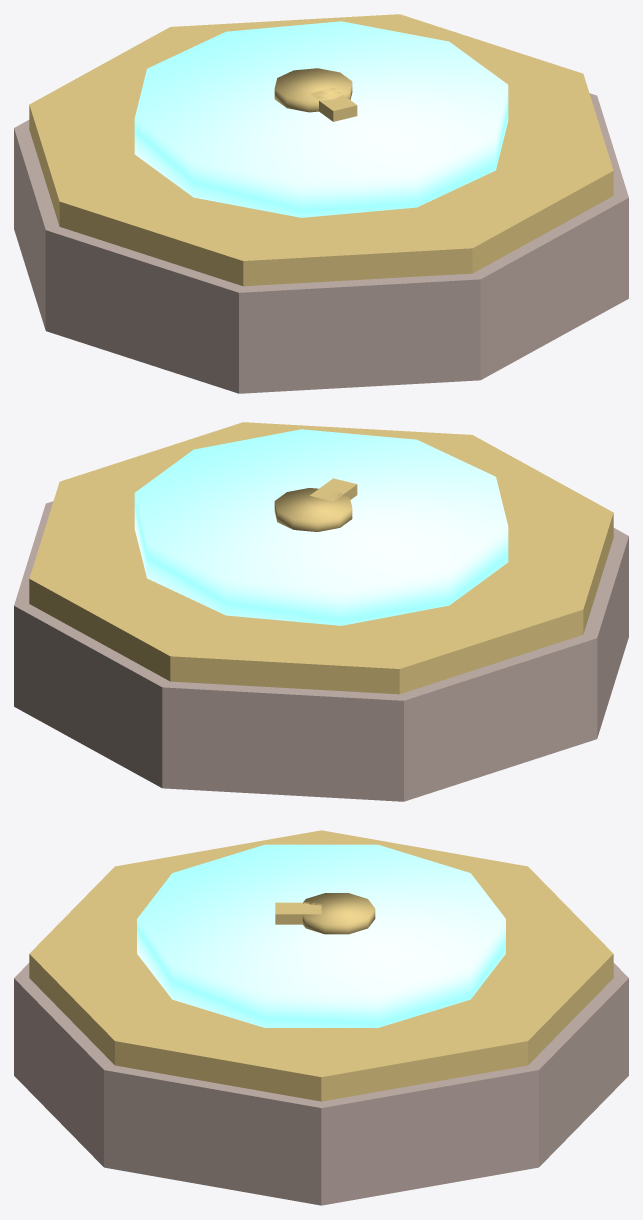
File: Gimmick_DoorSwitchPad.fbx
3 renders of one model, top to bottom at view 1: azimuth 30°, elevation 25°; view 2: azimuth 150°, elevation 25°; view 3: azimuth 270°, elevation 25°, orthographic. The views are drawn at different scales.
Parts seen in each view (by area): view 1: Gimmick_DoorSwitchPad_Base, Gimmick_DoorSwitchPad_Frame, Gimmick_DoorSwitchPad_Button, Gimmick_DoorSwitchPad_KeyholeTop, Gimmick_DoorSwitchPad_KeyholeBottom; view 2: Gimmick_DoorSwitchPad_Base, Gimmick_DoorSwitchPad_Frame, Gimmick_DoorSwitchPad_Button, Gimmick_DoorSwitchPad_KeyholeTop, Gimmick_DoorSwitchPad_KeyholeBottom; view 3: Gimmick_DoorSwitchPad_Base, Gimmick_DoorSwitchPad_Frame, Gimmick_DoorSwitchPad_Button, Gimmick_DoorSwitchPad_KeyholeTop, Gimmick_DoorSwitchPad_KeyholeBottom.
Boxes of the visible parts, <box> form: Gimmick_DoorSwitchPad_Base: <box>14,93,628,393</box>; Gimmick_DoorSwitchPad_Frame: <box>29,14,613,286</box>; Gimmick_DoorSwitchPad_Button: <box>134,21,508,217</box>; Gimmick_DoorSwitchPad_KeyholeTop: <box>274,68,352,112</box>; Gimmick_DoorSwitchPad_KeyholeBottom: <box>310,88,357,121</box>; Gimmick_DoorSwitchPad_Base: <box>14,501,628,801</box>; Gimmick_DoorSwitchPad_Frame: <box>29,422,613,694</box>; Gimmick_DoorSwitchPad_Button: <box>134,429,508,625</box>; Gimmick_DoorSwitchPad_KeyholeTop: <box>274,488,352,531</box>; Gimmick_DoorSwitchPad_KeyholeBottom: <box>310,478,357,501</box>; Gimmick_DoorSwitchPad_Base: <box>14,963,628,1205</box>; Gimmick_DoorSwitchPad_Frame: <box>29,830,613,1101</box>; Gimmick_DoorSwitchPad_Button: <box>137,844,505,1027</box>; Gimmick_DoorSwitchPad_KeyholeTop: <box>302,893,375,934</box>; Gimmick_DoorSwitchPad_KeyholeBottom: <box>275,902,321,924</box>.
Size of the model in its own units: 0.8 by 0.24 by 0.8.
